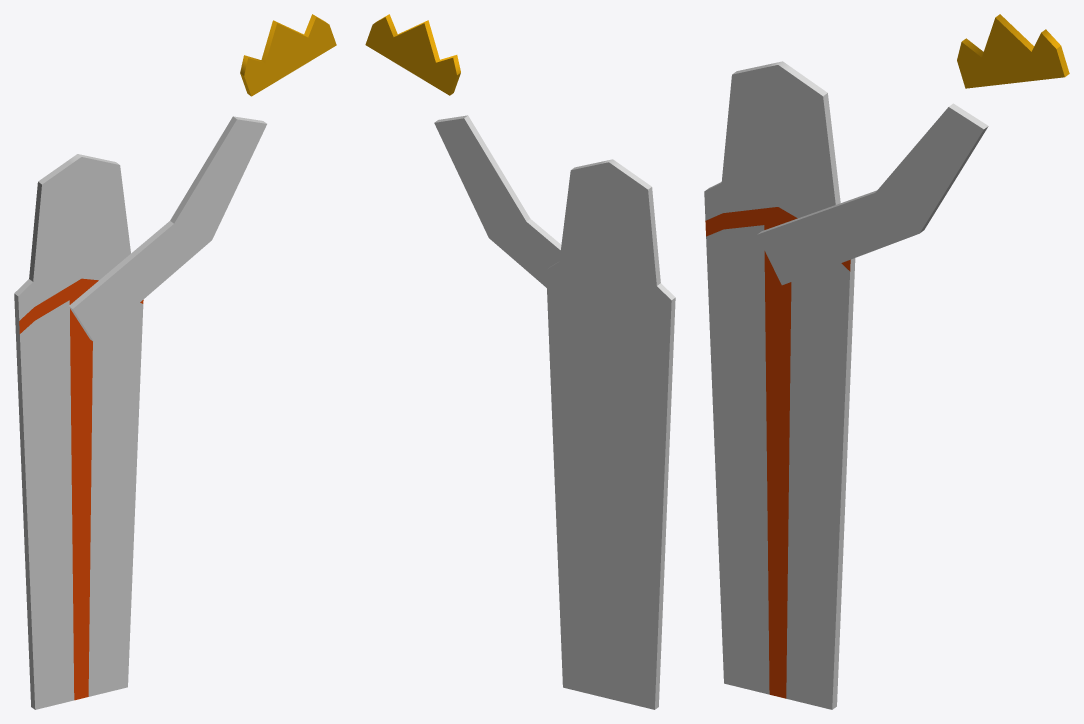
File: ProtoThroneRoom_Preist.fbx
3 views of the same model, side by side, from view 1: azimuth 30°, elevation 25°; view 2: azimuth 150°, elevation 25°; view 3: azimuth 330°, elevation 25° (orthographic). The views are drawn at different scales.
Visible parts, largest first — view 1: Preist, Preist_Arm, Crown; view 2: Preist, Preist_Arm, Crown; view 3: Preist, Preist_Arm, Crown.
Part boxes in pixels (x1=…): Preist: x1=14, y1=154, x2=143, y2=709; Preist_Arm: x1=69, y1=116, x2=266, y2=341; Crown: x1=240, y1=14, x2=336, y2=96; Preist: x1=546, y1=159, x2=675, y2=709; Preist_Arm: x1=434, y1=115, x2=561, y2=287; Crown: x1=365, y1=14, x2=460, y2=95; Preist: x1=704, y1=61, x2=855, y2=709; Preist_Arm: x1=757, y1=103, x2=988, y2=285; Crown: x1=957, y1=14, x2=1069, y2=88.
Bounding box in the file's own units: 106 × 205 × 5.13.
